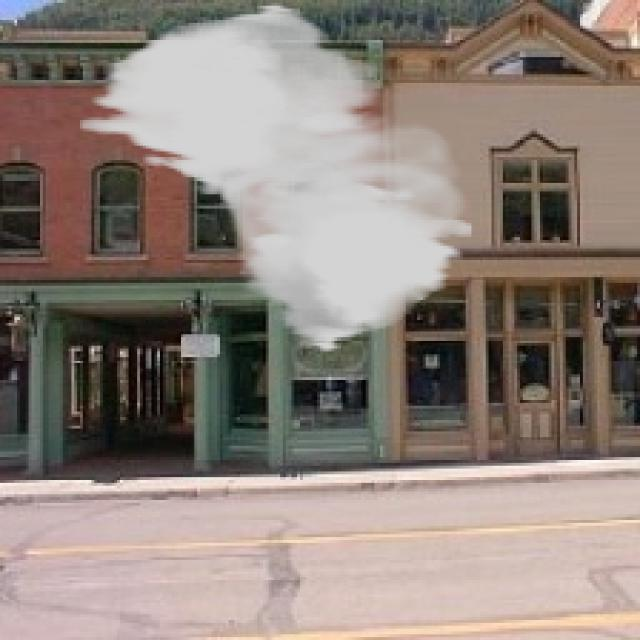smoke: (80, 3, 474, 354)
